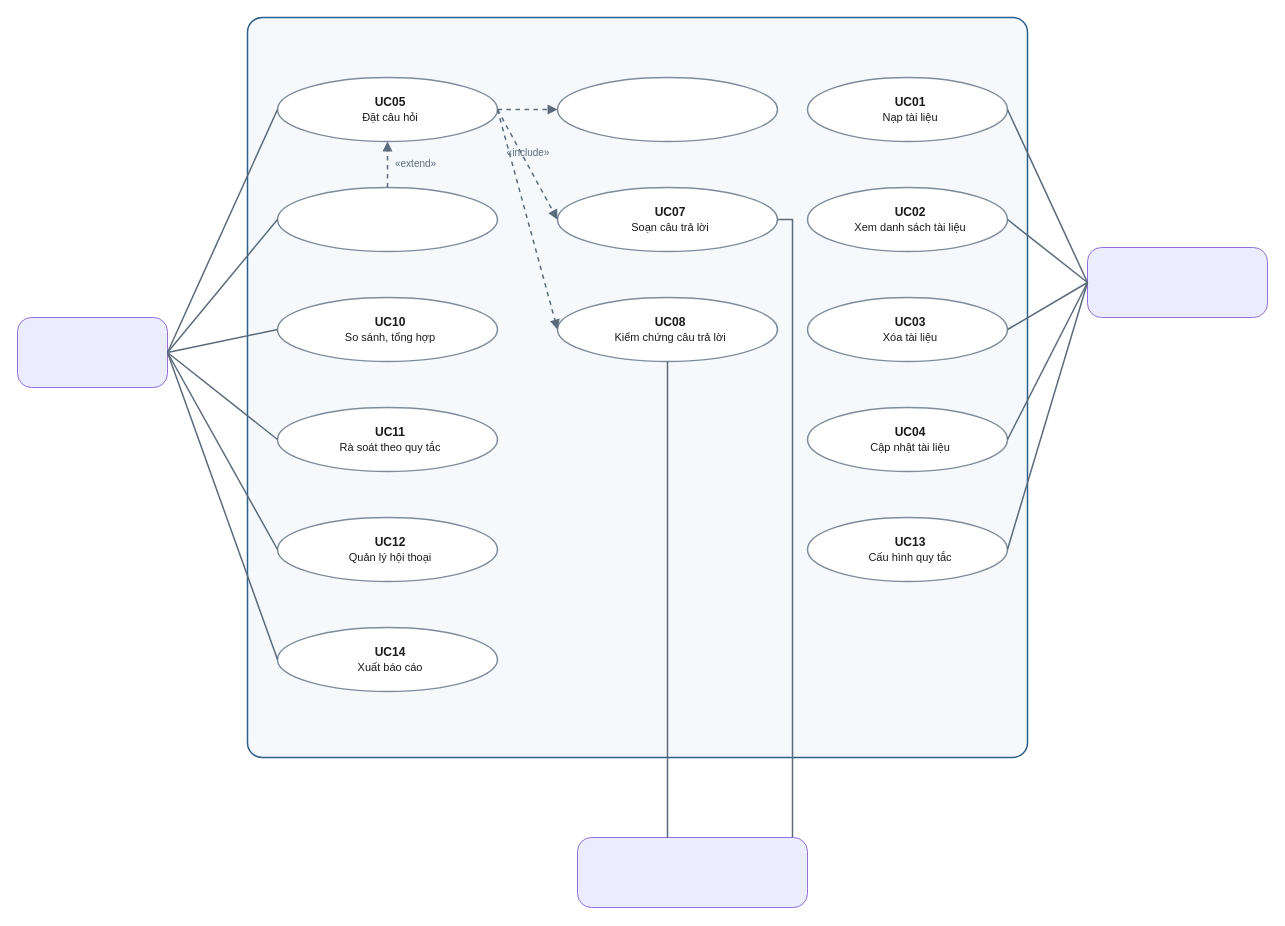
Some shapes in this 1285 by 926 pixel diagram are drawn without their labels. Each missing label, with the box of its shape:
Dịch vụ mô hình cục bộ tác nhân phụ: (576, 836, 808, 908)
Hệ thống VTAgent: (246, 16, 1028, 758)
Người dùng cuối tác nhân chính: (16, 316, 168, 388)
Quản trị tài liệu tác nhân chính: (1086, 246, 1268, 318)
UC06 Truy xuất bằng chứng: (556, 76, 778, 142)
UC09 Xem trích dẫn, đoạn gốc: (276, 186, 498, 252)
